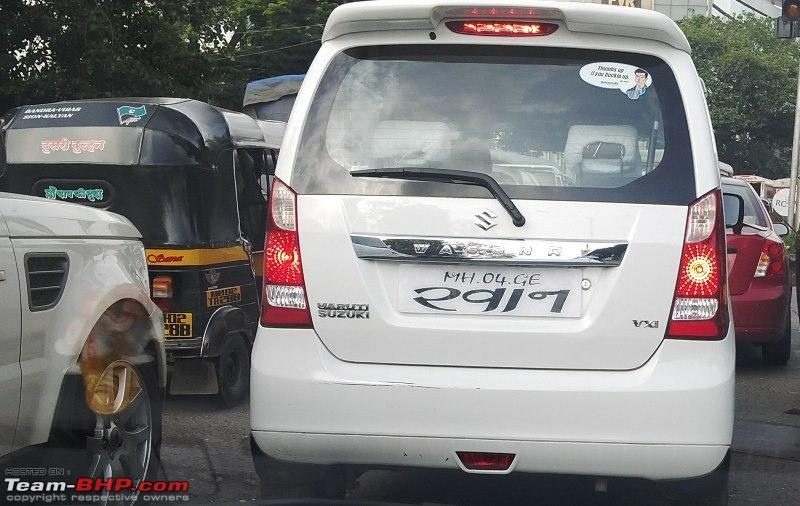licence-plate: (398, 265, 586, 319)
